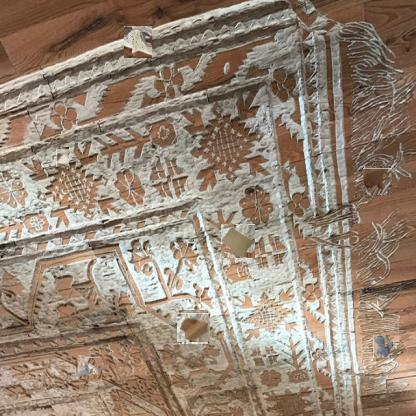dirty: (221, 224, 255, 258), (178, 312, 209, 343), (124, 26, 152, 58), (77, 356, 101, 380), (56, 147, 69, 168)
liquid: (363, 167, 392, 196), (372, 336, 392, 357)
